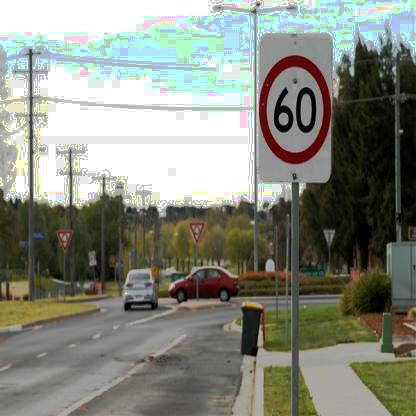Speed Limit -60-: (254, 55, 332, 166)
